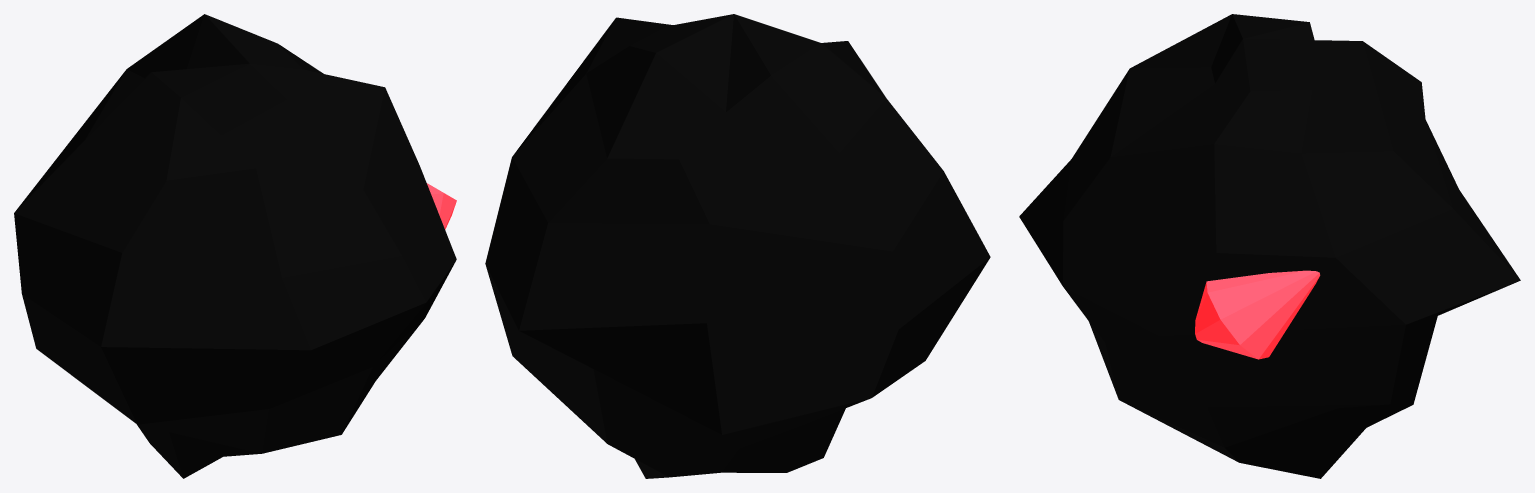
Rendered from FloatyShootyBall.fbx.
3 renders of one model, left to right at view 1: azimuth 30°, elevation 25°; view 2: azimuth 150°, elevation 25°; view 3: azimuth 270°, elevation 25°, orthographic. The views are drawn at different scales.
Visible parts, largest first — view 1: Sphere; view 2: Sphere; view 3: Sphere.
Boxes of the visible parts, left/top/right/bottom form: Sphere: left=14, top=14, right=456, bottom=478; Sphere: left=485, top=14, right=990, bottom=478; Sphere: left=1019, top=14, right=1520, bottom=478.
Bounding box in the file's own units: 212 × 212 × 228.
